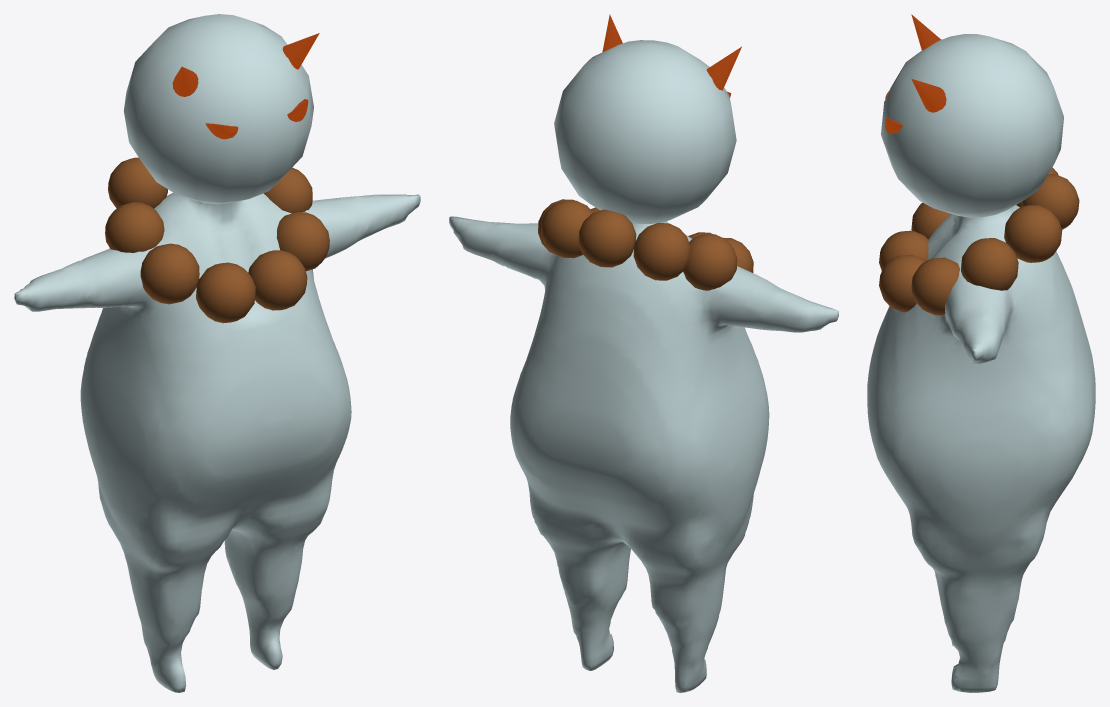
The model's file is luobojing.fbx.
3 views of the same model, side by side, from view 1: azimuth 30°, elevation 25°; view 2: azimuth 150°, elevation 25°; view 3: azimuth 270°, elevation 25° (orthographic). The views are drawn at different scales.
Visible parts, largest first — view 1: Volume_Mesher, Sphere, Sphere_1_5, Sphere_1_6, Sphere_1_4, Sphere_1_7, Sphere_1_3, Sphere_1_8, Sphere_1_2, Cone, Loft; view 2: Volume_Mesher, Sphere, Sphere_1_0, Sphere_1_8, Sphere_1_7, Sphere_1_1, Cone; view 3: Volume_Mesher, Sphere, Sphere_1_1, Sphere_1_2, Sphere_1_3, Sphere_1_4, Sphere_1_0, Sphere_1_5, Cone, Sphere_1_6.
Boxes of the visible parts, left/top/right/bottom form: Volume_Mesher: left=14, top=192, right=420, bottom=692; Sphere: left=124, top=14, right=313, bottom=204; Sphere_1_5: left=196, top=262, right=255, bottom=323; Sphere_1_6: left=140, top=243, right=199, bottom=304; Sphere_1_4: left=248, top=250, right=307, bottom=310; Sphere_1_7: left=105, top=202, right=164, bottom=252; Sphere_1_3: left=276, top=212, right=329, bottom=271; Sphere_1_8: left=108, top=157, right=167, bottom=208; Sphere_1_2: left=264, top=167, right=312, bottom=213; Cone: left=172, top=33, right=319, bottom=96; Loft: left=205, top=99, right=308, bottom=139; Volume_Mesher: left=449, top=216, right=838, bottom=692; Sphere: left=554, top=40, right=736, bottom=223; Sphere_1_0: left=578, top=209, right=636, bottom=267; Sphere_1_8: left=633, top=223, right=690, bottom=280; Sphere_1_7: left=683, top=234, right=737, bottom=290; Sphere_1_1: left=540, top=200, right=593, bottom=258; Cone: left=602, top=14, right=741, bottom=90; Volume_Mesher: left=867, top=205, right=1095, bottom=692; Sphere: left=881, top=34, right=1063, bottom=217; Sphere_1_1: left=1004, top=205, right=1062, bottom=262; Sphere_1_2: left=961, top=238, right=1018, bottom=290; Sphere_1_3: left=911, top=257, right=960, bottom=315; Sphere_1_4: left=879, top=254, right=925, bottom=312; Sphere_1_0: left=1021, top=174, right=1079, bottom=229; Sphere_1_5: left=879, top=230, right=928, bottom=270; Cone: left=911, top=14, right=946, bottom=112; Sphere_1_6: left=911, top=202, right=950, bottom=239.
Bounding box in the file's own units: 183 × 283 × 93.54.
